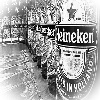beer: (57, 1, 96, 100)
